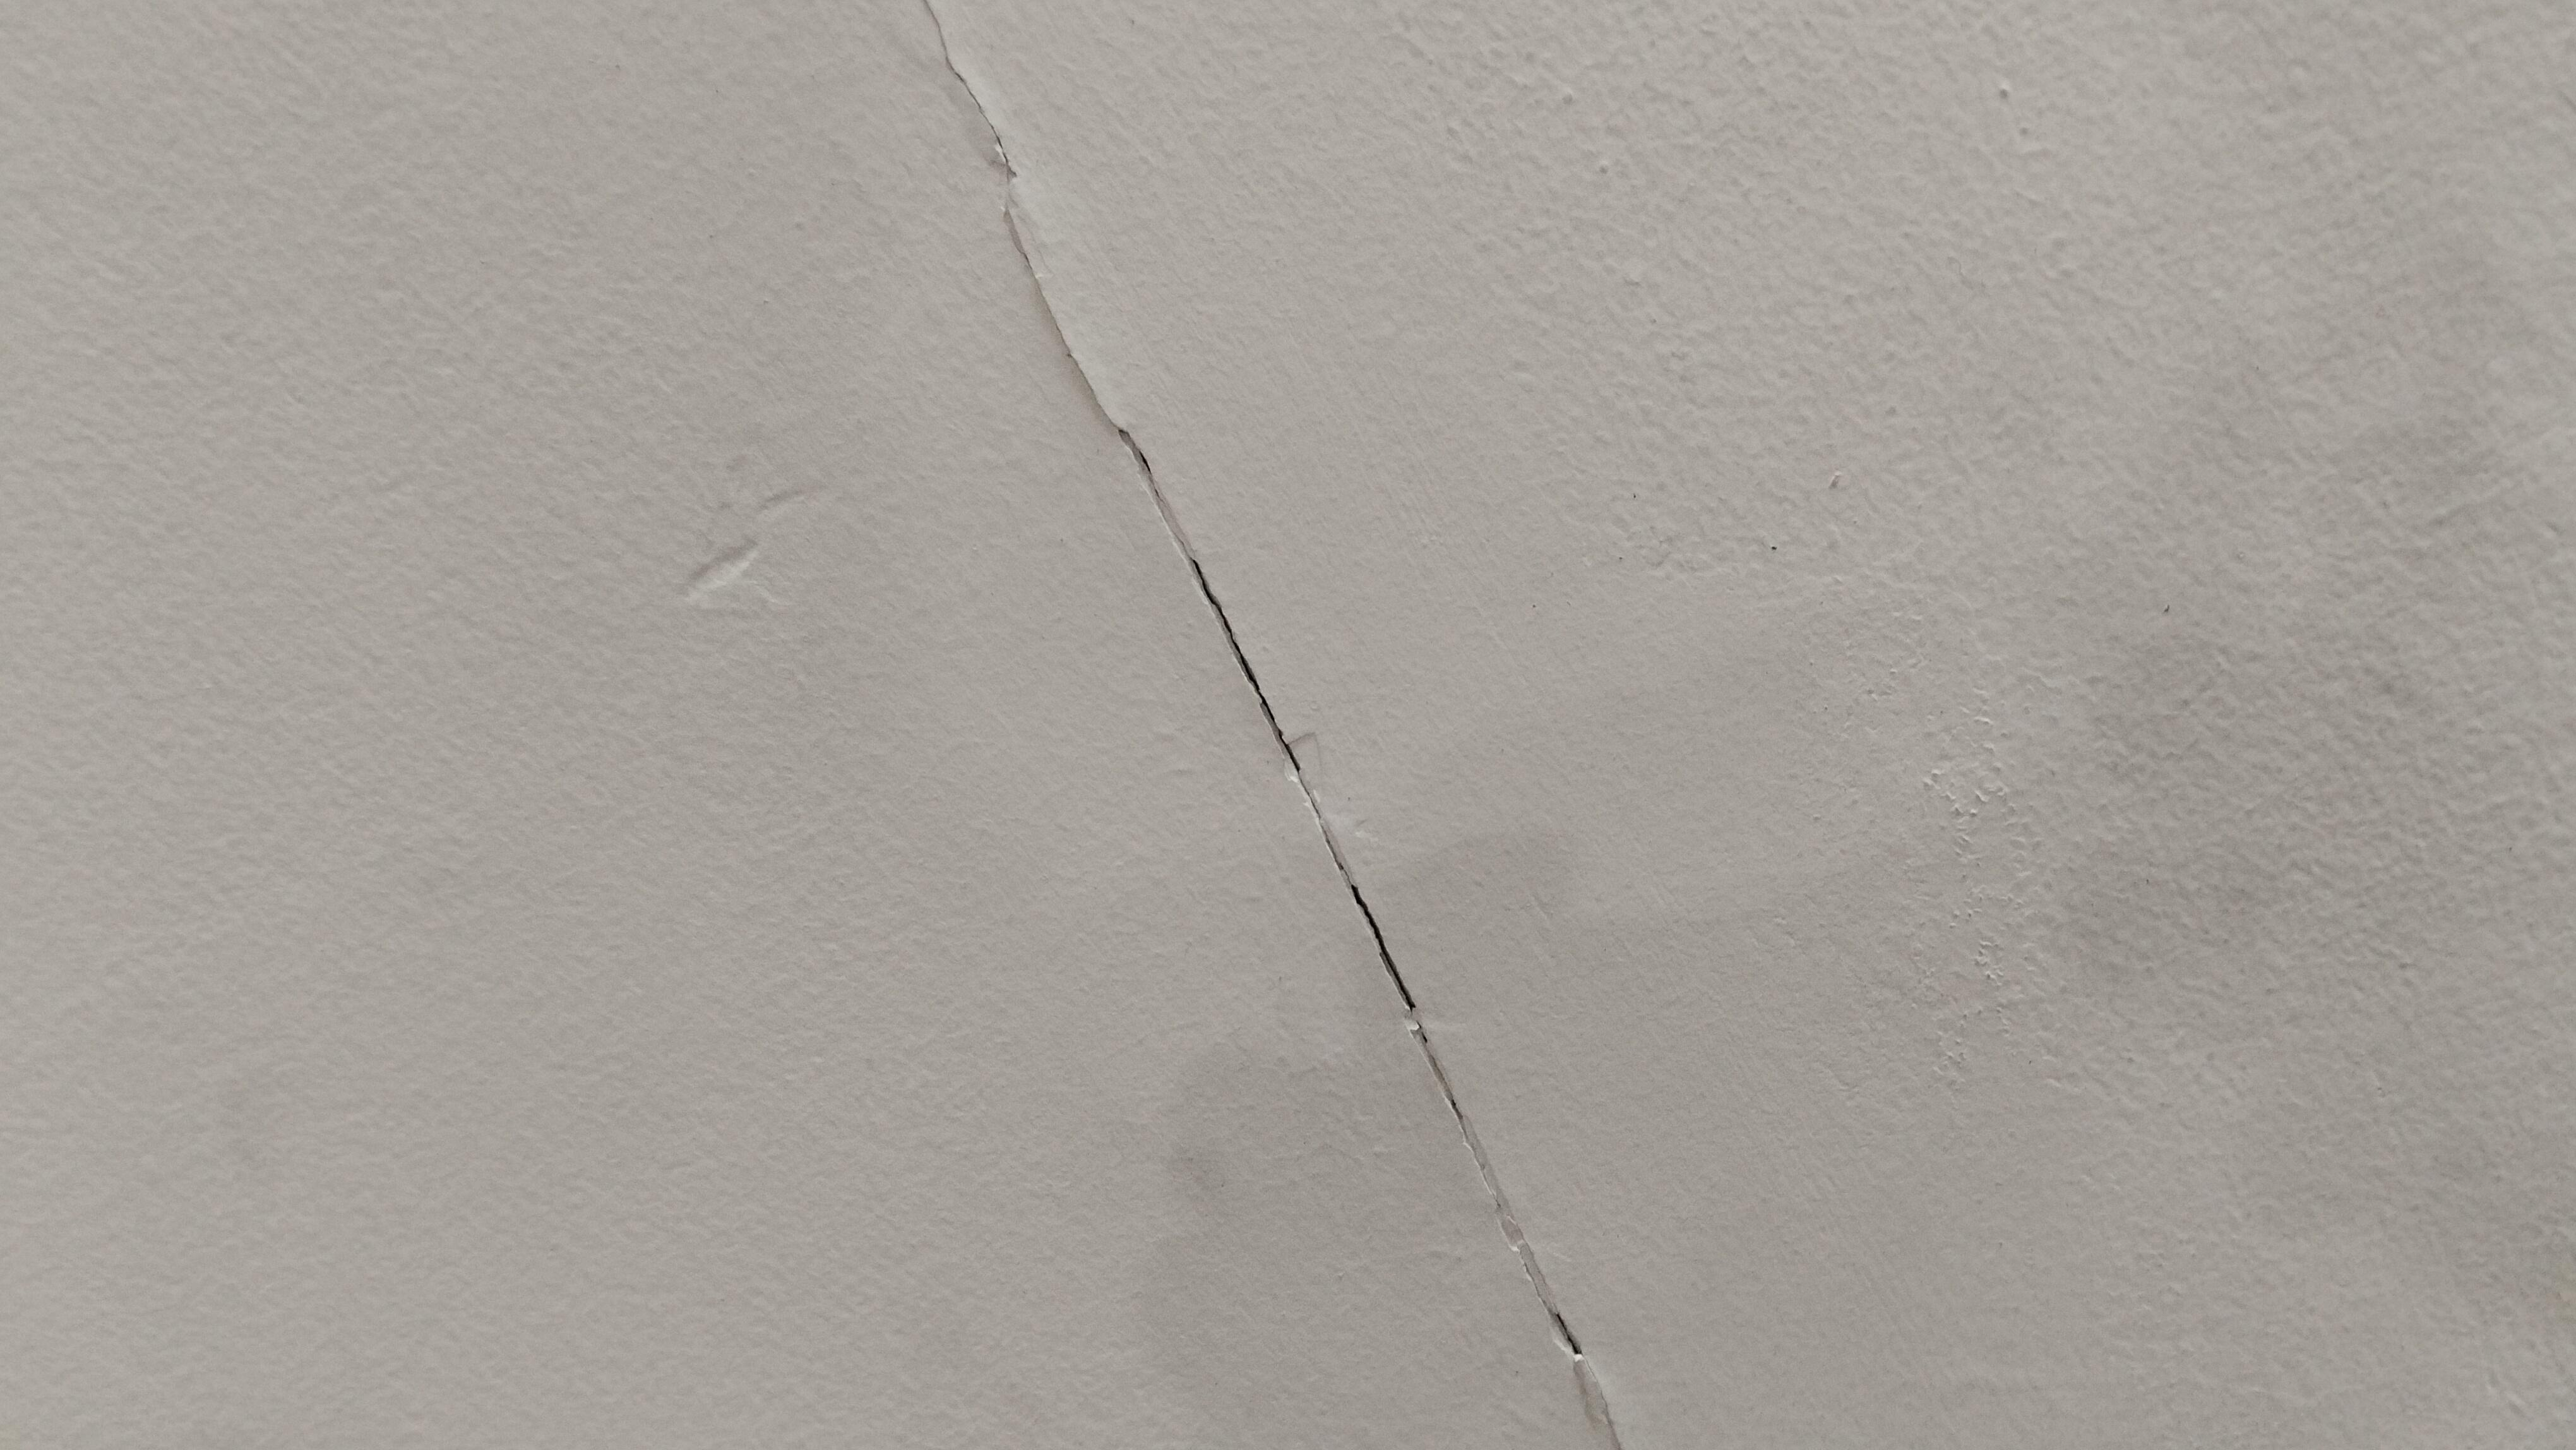Crack: (1299, 820, 1488, 1176), (1171, 552, 1338, 853), (901, 0, 1033, 195), (1447, 1160, 1562, 1303), (1527, 1266, 1622, 1400), (996, 204, 1072, 354), (1093, 413, 1177, 538)
